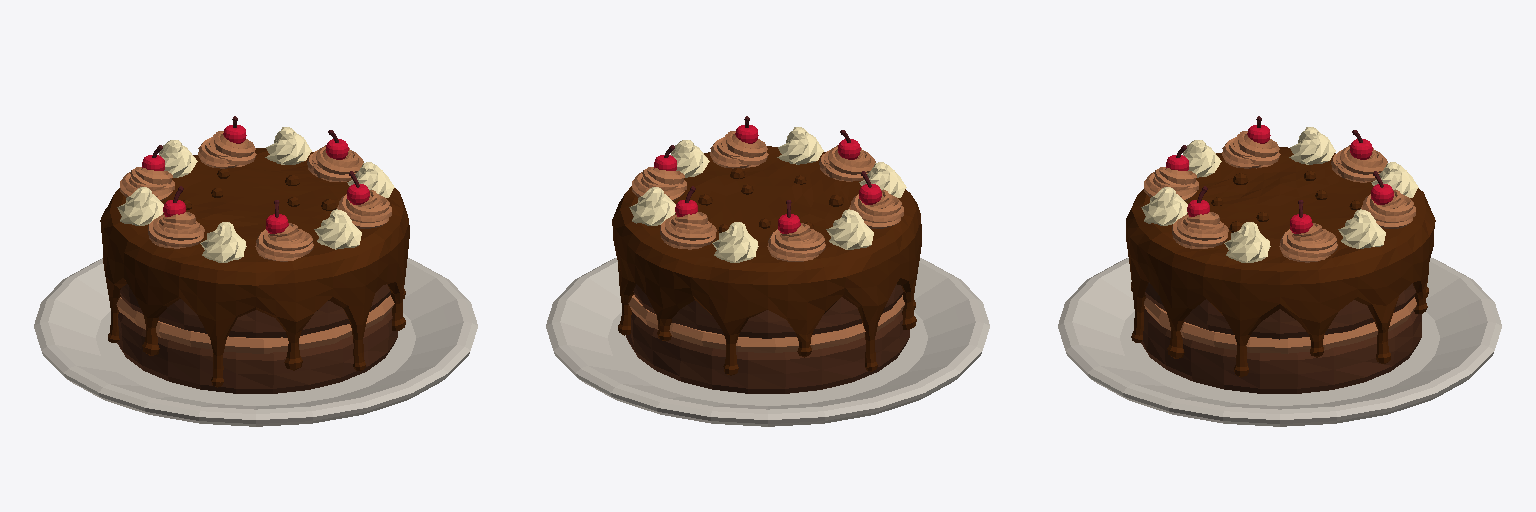
3 views of the same model, side by side, from view 1: azimuth 30°, elevation 25°; view 2: azimuth 150°, elevation 25°; view 3: azimuth 270°, elevation 25° (orthographic).
Visible parts, largest first — view 1: Cake; view 2: Cake; view 3: Cake.
Boxes of the visible parts, x1,y1,x2,y2 form: Cake: [34, 116, 477, 426]; Cake: [546, 116, 989, 426]; Cake: [1058, 116, 1501, 426].
Size of the model in its own units: 0.8483 by 0.412 by 0.8483.
1 materials, 1 textured.